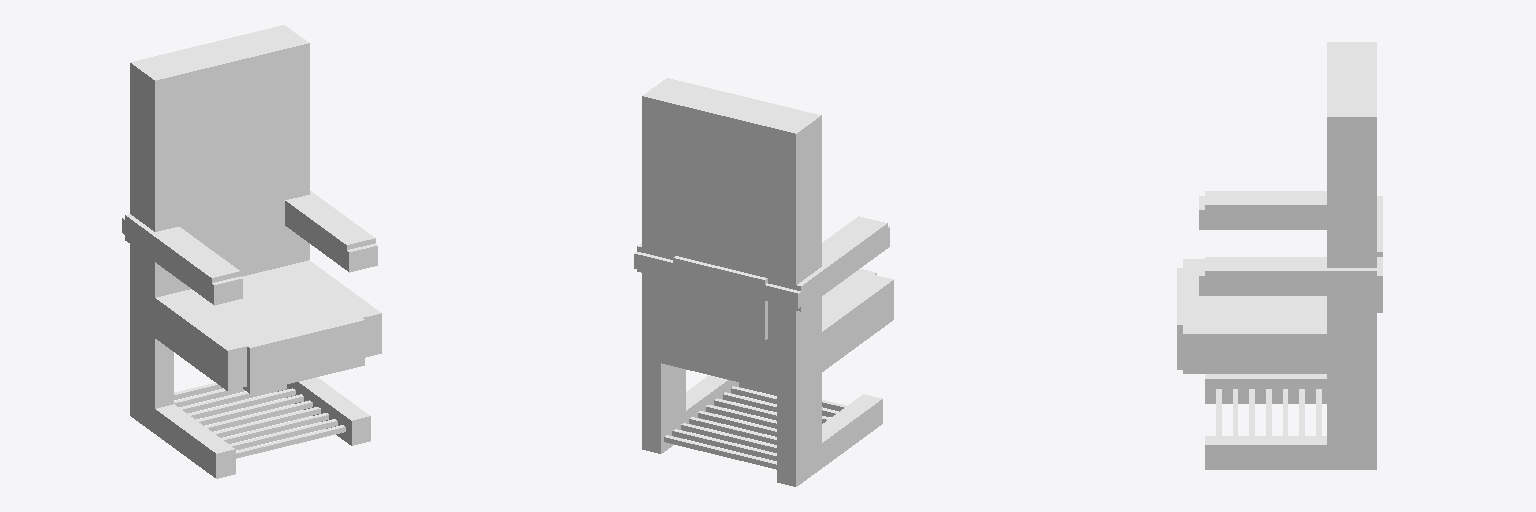
File: obj.seat.obj
The picture shows the model from 3 angles: view 1: azimuth 30°, elevation 25°; view 2: azimuth 150°, elevation 25°; view 3: azimuth 270°, elevation 25°; orthographic projection.
Parts seen in each view (by area): view 1: object 1; view 2: object 1; view 3: object 1.
Boxes of the visible parts, <box> form: object 1: <box>122,25,381,478</box>; object 1: <box>634,78,893,486</box>; object 1: <box>1177,42,1382,469</box>.
Size of the model in its own units: 3.4 by 7 by 3.7.